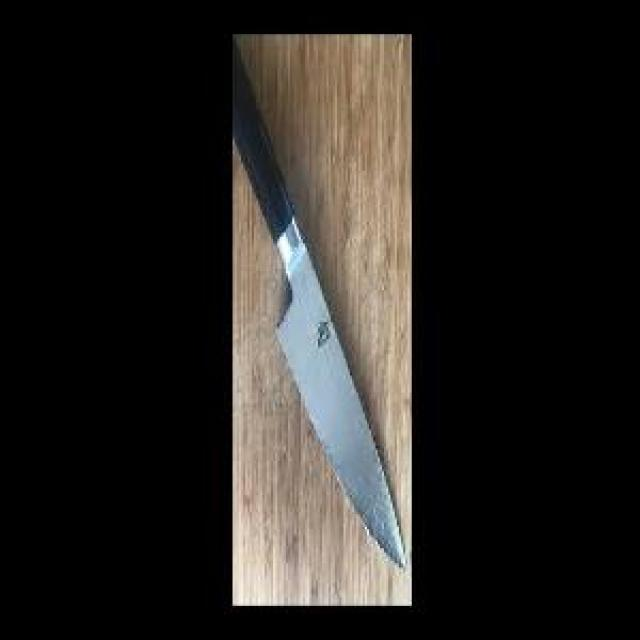knife: (232, 32, 410, 572)
